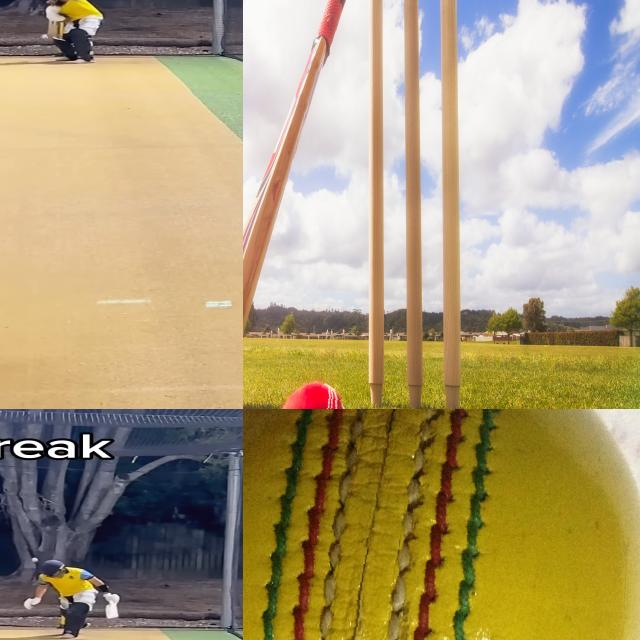Cricket ball: (243, 409, 640, 640), (275, 372, 359, 409), (40, 34, 50, 40), (31, 557, 39, 563)
Stumps: (366, 0, 459, 409)
